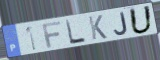1: (25, 25, 37, 50)
F: (41, 20, 63, 49)
J: (113, 11, 130, 36)
K: (87, 14, 109, 41)
L: (64, 19, 88, 46)
U: (128, 5, 154, 36)
